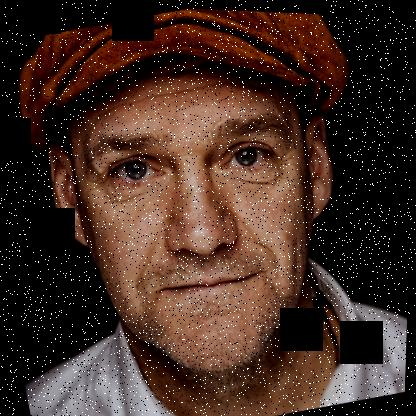Male: (24, 22, 379, 401)
